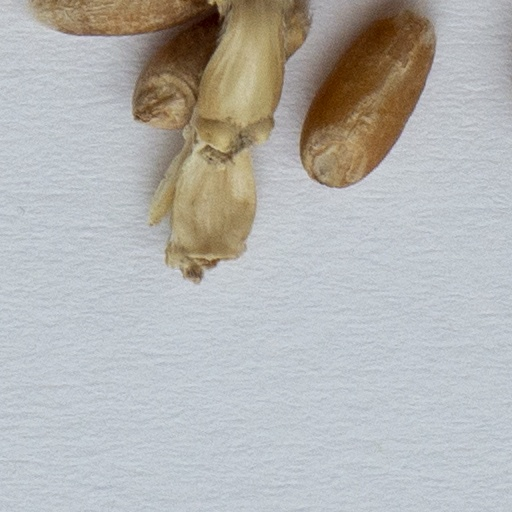Peel-poly: (147, 0, 304, 279)
